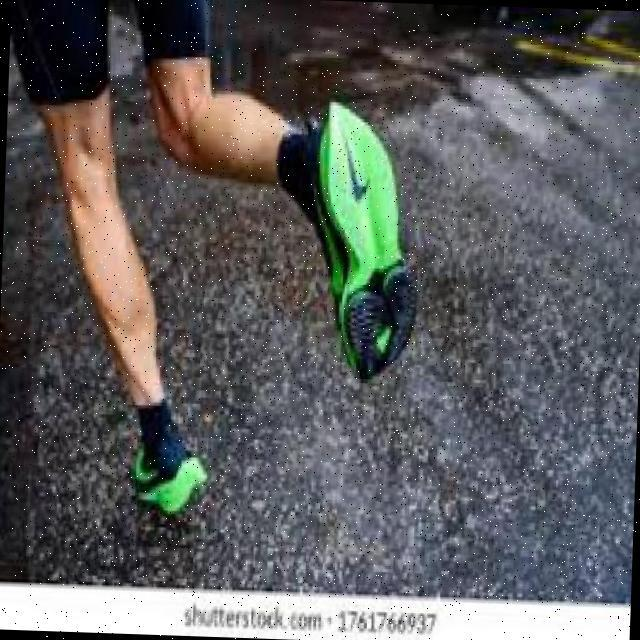Nike: (335, 118, 372, 201)
